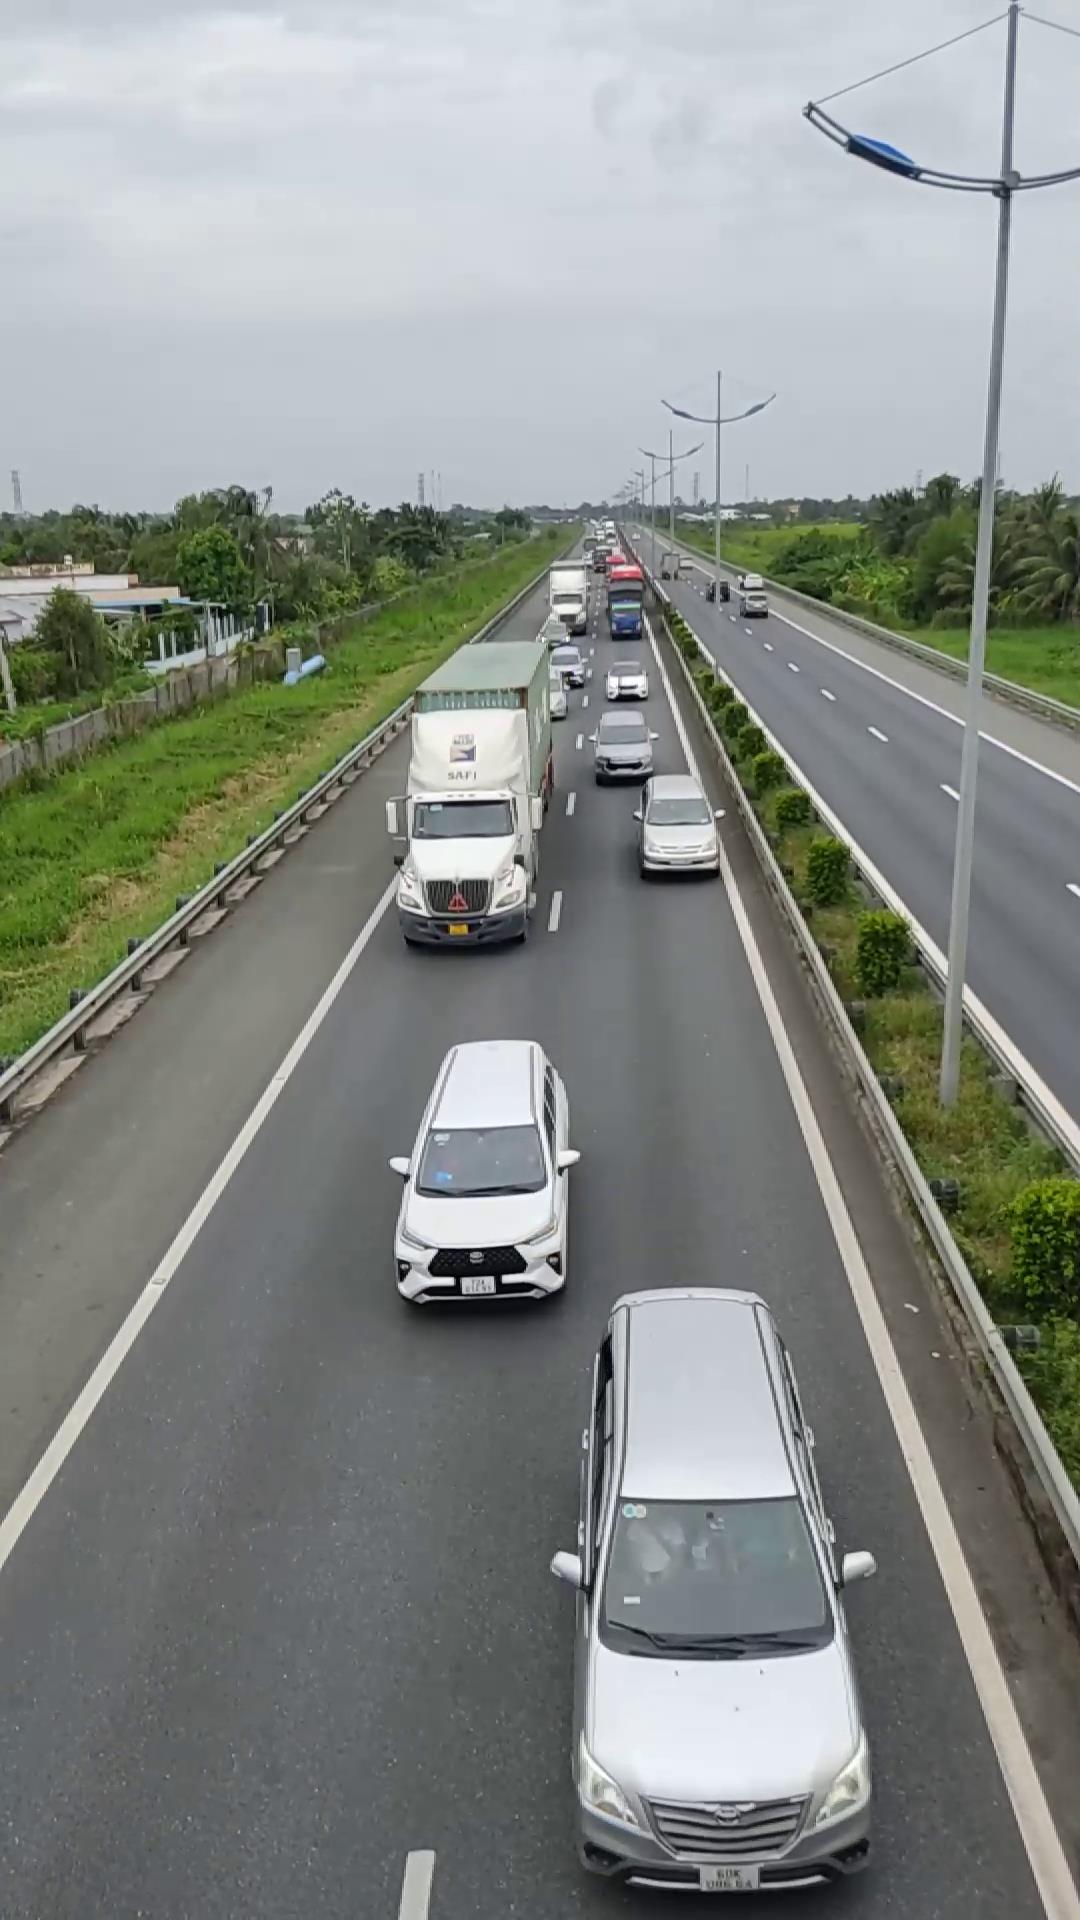car: (557, 1285, 877, 1893), (386, 1037, 581, 1312), (632, 773, 722, 879), (588, 712, 657, 783)
container: (392, 636, 557, 949)
